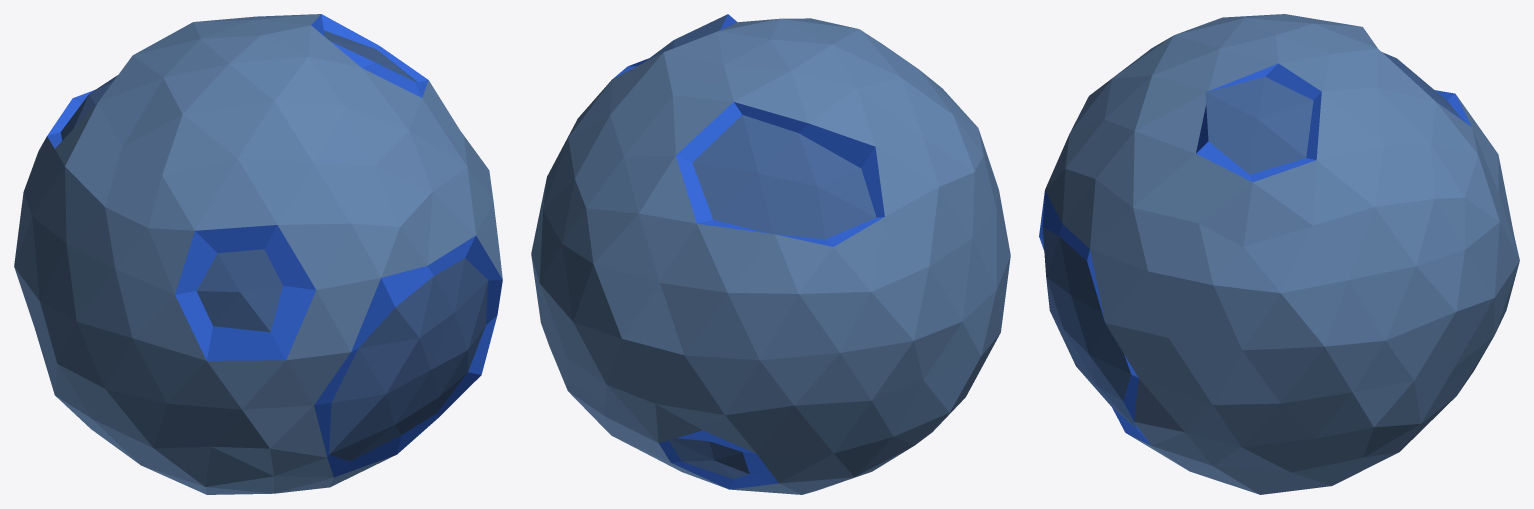
File: uranus.glb
The picture shows the model from 3 angles, left to right: view 1: azimuth 30°, elevation 25°; view 2: azimuth 150°, elevation 25°; view 3: azimuth 270°, elevation 25°; orthographic projection. The views are drawn at different scales.
Parts seen in each view (by area): view 1: uranus_Icosphere.009; view 2: uranus_Icosphere.009; view 3: uranus_Icosphere.009.
Boxes of the visible parts, box(x1,y1,x2,y2) form: uranus_Icosphere.009: box(14, 14, 502, 494); uranus_Icosphere.009: box(531, 14, 1010, 494); uranus_Icosphere.009: box(1039, 14, 1519, 494).
Bounding box in the file's own units: 1.85 × 1.86 × 1.89.
